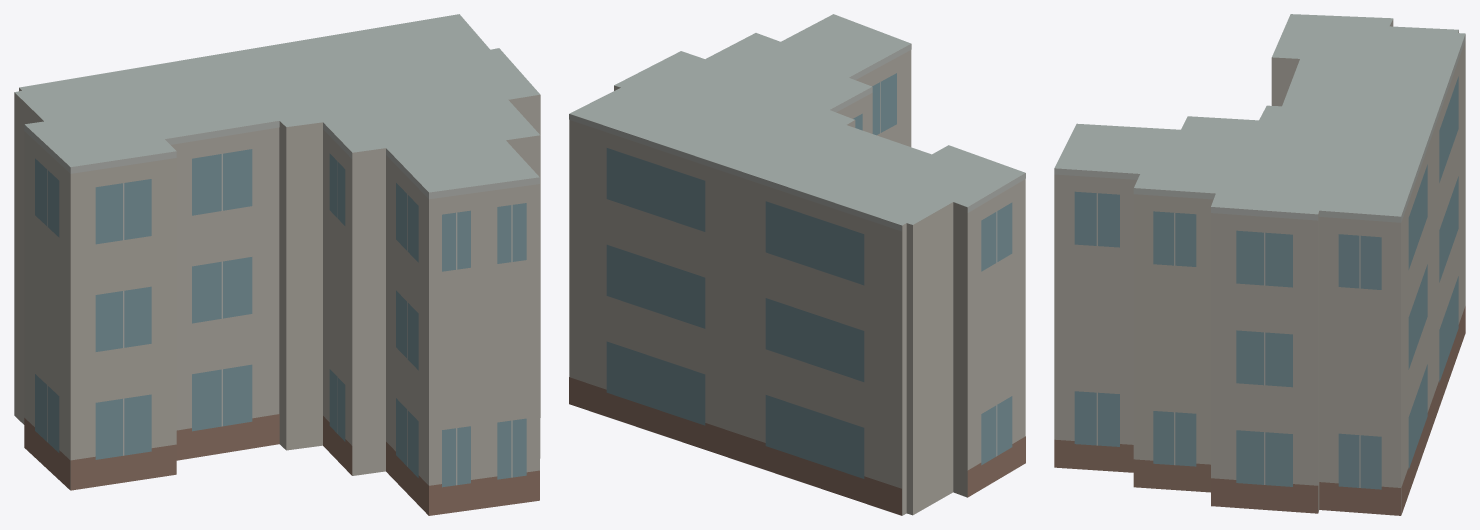
The model's file is survey-upis-32477159.glb.
The picture shows the model from 3 angles, left to right: view 1: azimuth 30°, elevation 25°; view 2: azimuth 150°, elevation 25°; view 3: azimuth 270°, elevation 25°; orthographic projection. The views are drawn at different scales.
Visible parts, largest first — view 1: survey-upis-32477159.tmp; view 2: survey-upis-32477159.tmp; view 3: survey-upis-32477159.tmp.
Boxes of the visible parts, left/top/right/bottom form: survey-upis-32477159.tmp: left=14, top=14, right=540, bottom=515; survey-upis-32477159.tmp: left=569, top=14, right=1025, bottom=515; survey-upis-32477159.tmp: left=1054, top=14, right=1465, bottom=515.
Bounding box in the file's own units: 17.15 × 11.8 × 14.71.
